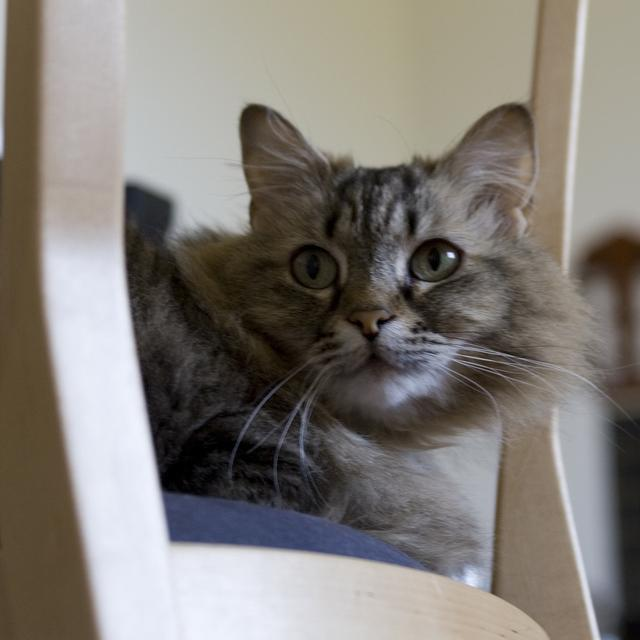animals: (250, 104, 520, 333)
